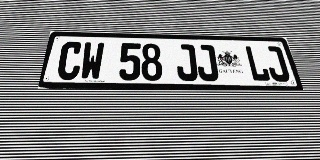5: (119, 43, 141, 81)
8: (141, 43, 163, 81)
C: (56, 41, 83, 80)
J: (263, 46, 291, 82), (195, 44, 219, 81), (175, 44, 198, 81)
L: (244, 46, 271, 82)
W: (79, 42, 105, 80)
